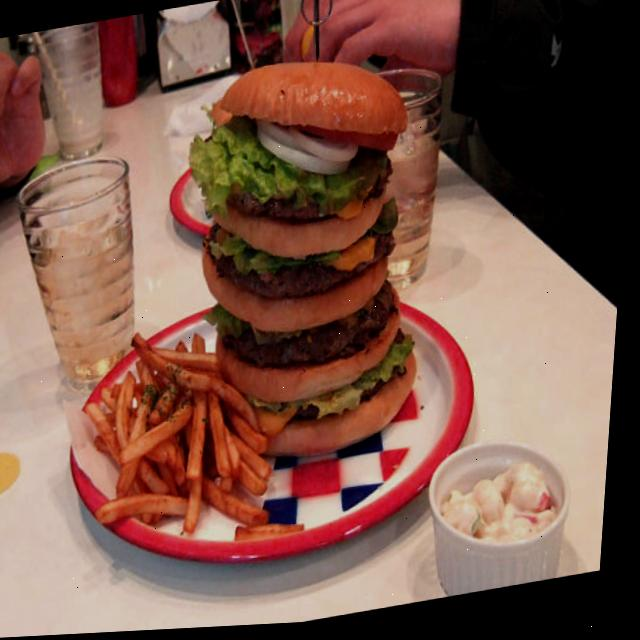汉堡快餐: (156, 23, 456, 485)
炸货点心: (54, 297, 340, 604)
